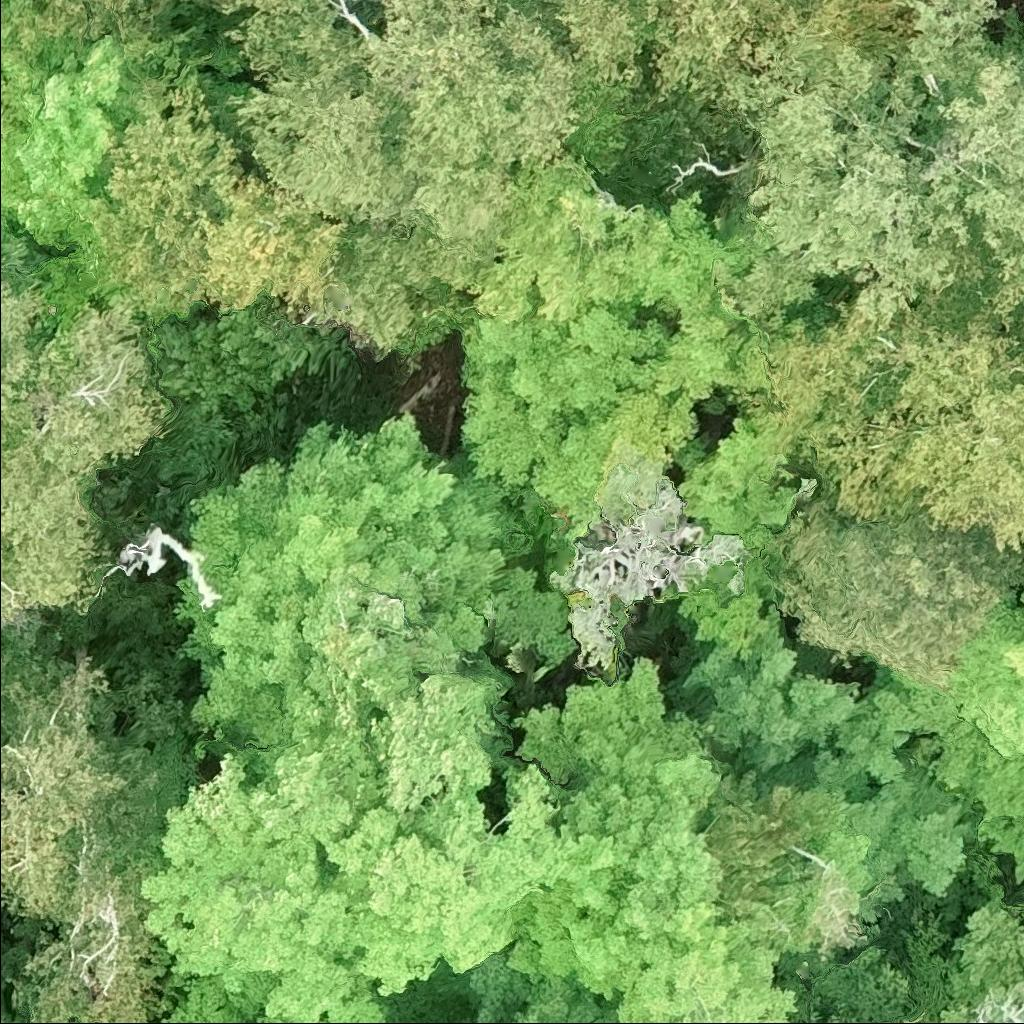crown: (174, 413, 573, 824), (322, 672, 628, 1001), (458, 281, 771, 535), (748, 289, 1023, 563), (746, 34, 985, 331), (136, 746, 390, 1023), (362, 0, 582, 242), (513, 658, 723, 908), (767, 489, 1023, 691), (468, 156, 750, 327), (0, 648, 162, 925), (775, 685, 982, 897), (502, 877, 798, 1023), (85, 71, 248, 327), (659, 391, 811, 661), (549, 480, 752, 682), (886, 0, 1023, 282), (663, 595, 862, 776), (224, 55, 420, 232), (867, 663, 1023, 884), (6, 819, 164, 1023), (638, 0, 906, 120), (0, 33, 138, 249), (33, 301, 173, 483), (334, 217, 497, 351), (0, 433, 107, 626), (198, 176, 347, 313), (932, 577, 1023, 762), (218, 0, 365, 84), (936, 897, 1023, 1023), (550, 0, 646, 90), (0, 278, 46, 444), (42, 0, 208, 43), (504, 979, 615, 1023), (956, 273, 1023, 340), (0, 620, 43, 707), (205, 1015, 234, 1023), (259, 1017, 285, 1023), (904, 0, 910, 26), (461, 1021, 490, 1023), (1022, 23, 1023, 34), (905, 1022, 914, 1023)
